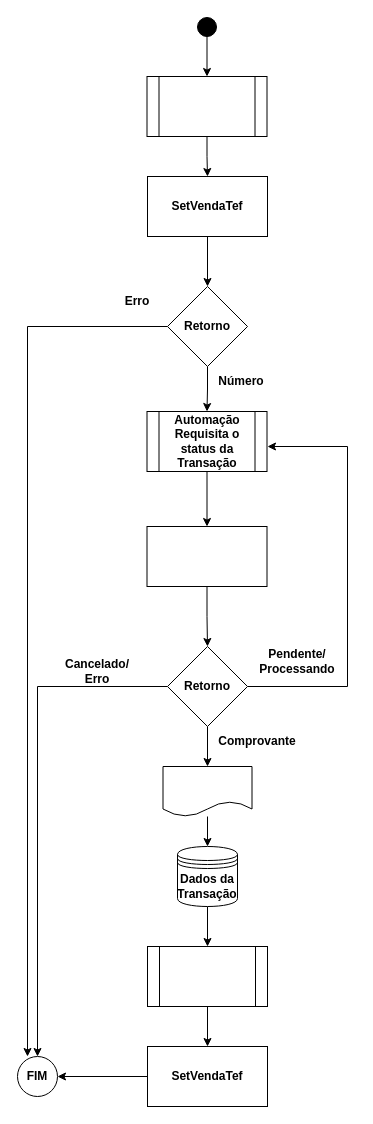
Some shapes in this 373 by 1124 pixel diagram are drawn without their labels. The shapes that lost their labels are listed below. From the top down, each one's centre as x and y in pixels, then its label:
At (206,106): "Automação Inicia Transação".
At (206,556): "GetVendasTef".
At (207,791): "Imprimir Comprovante".
At (207,976): "Automação Requisita Envia Confirmação".
